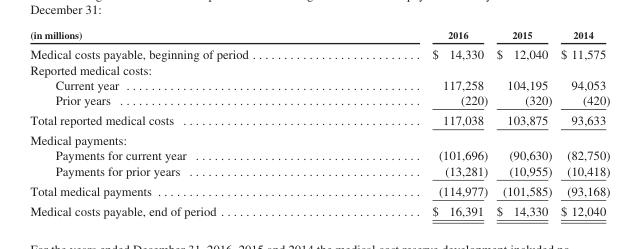table: (29, 28, 609, 217)
table column: (29, 28, 339, 217), (339, 28, 491, 217), (491, 28, 555, 217), (555, 28, 609, 217)
table column header: (29, 28, 609, 43)
table projected row header: (29, 129, 609, 147), (29, 61, 609, 76)
table row: (29, 109, 609, 129), (29, 180, 609, 200), (29, 43, 609, 61), (29, 91, 609, 109), (29, 129, 609, 147), (29, 162, 609, 180), (29, 200, 609, 217), (29, 28, 609, 43), (29, 61, 609, 76), (29, 76, 609, 91), (29, 147, 609, 162)
